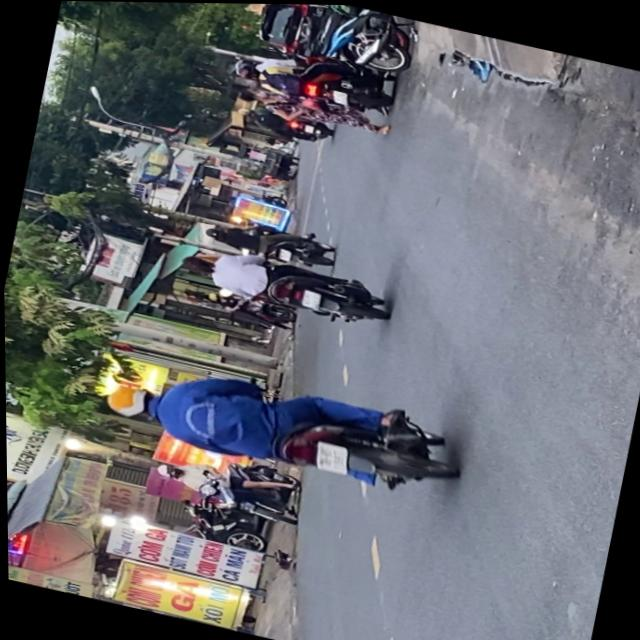helmet: (101, 379, 158, 422), (152, 461, 182, 481), (232, 63, 260, 80), (232, 55, 259, 72)
licenseplate: (93, 343, 466, 510), (173, 237, 391, 332), (226, 35, 400, 120), (146, 447, 304, 527)
motorcyclist: (178, 252, 215, 276)
nohelmet: (311, 439, 349, 473), (298, 288, 320, 307), (330, 88, 349, 103)
